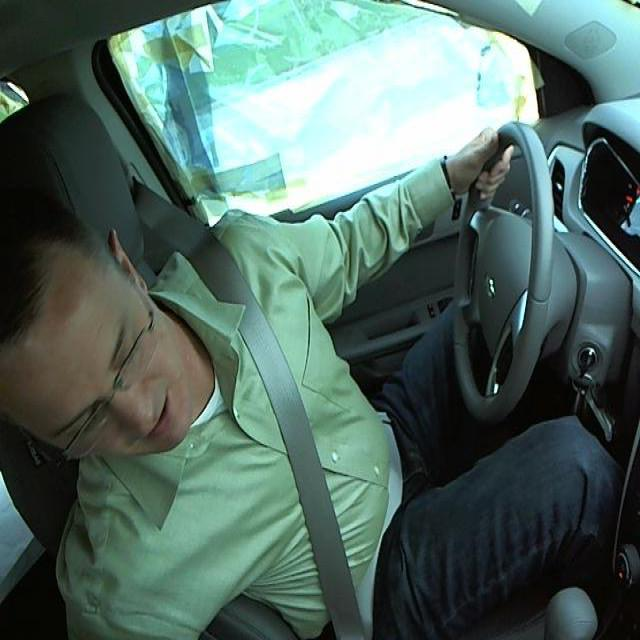seatbelt: (188, 251, 401, 620)
